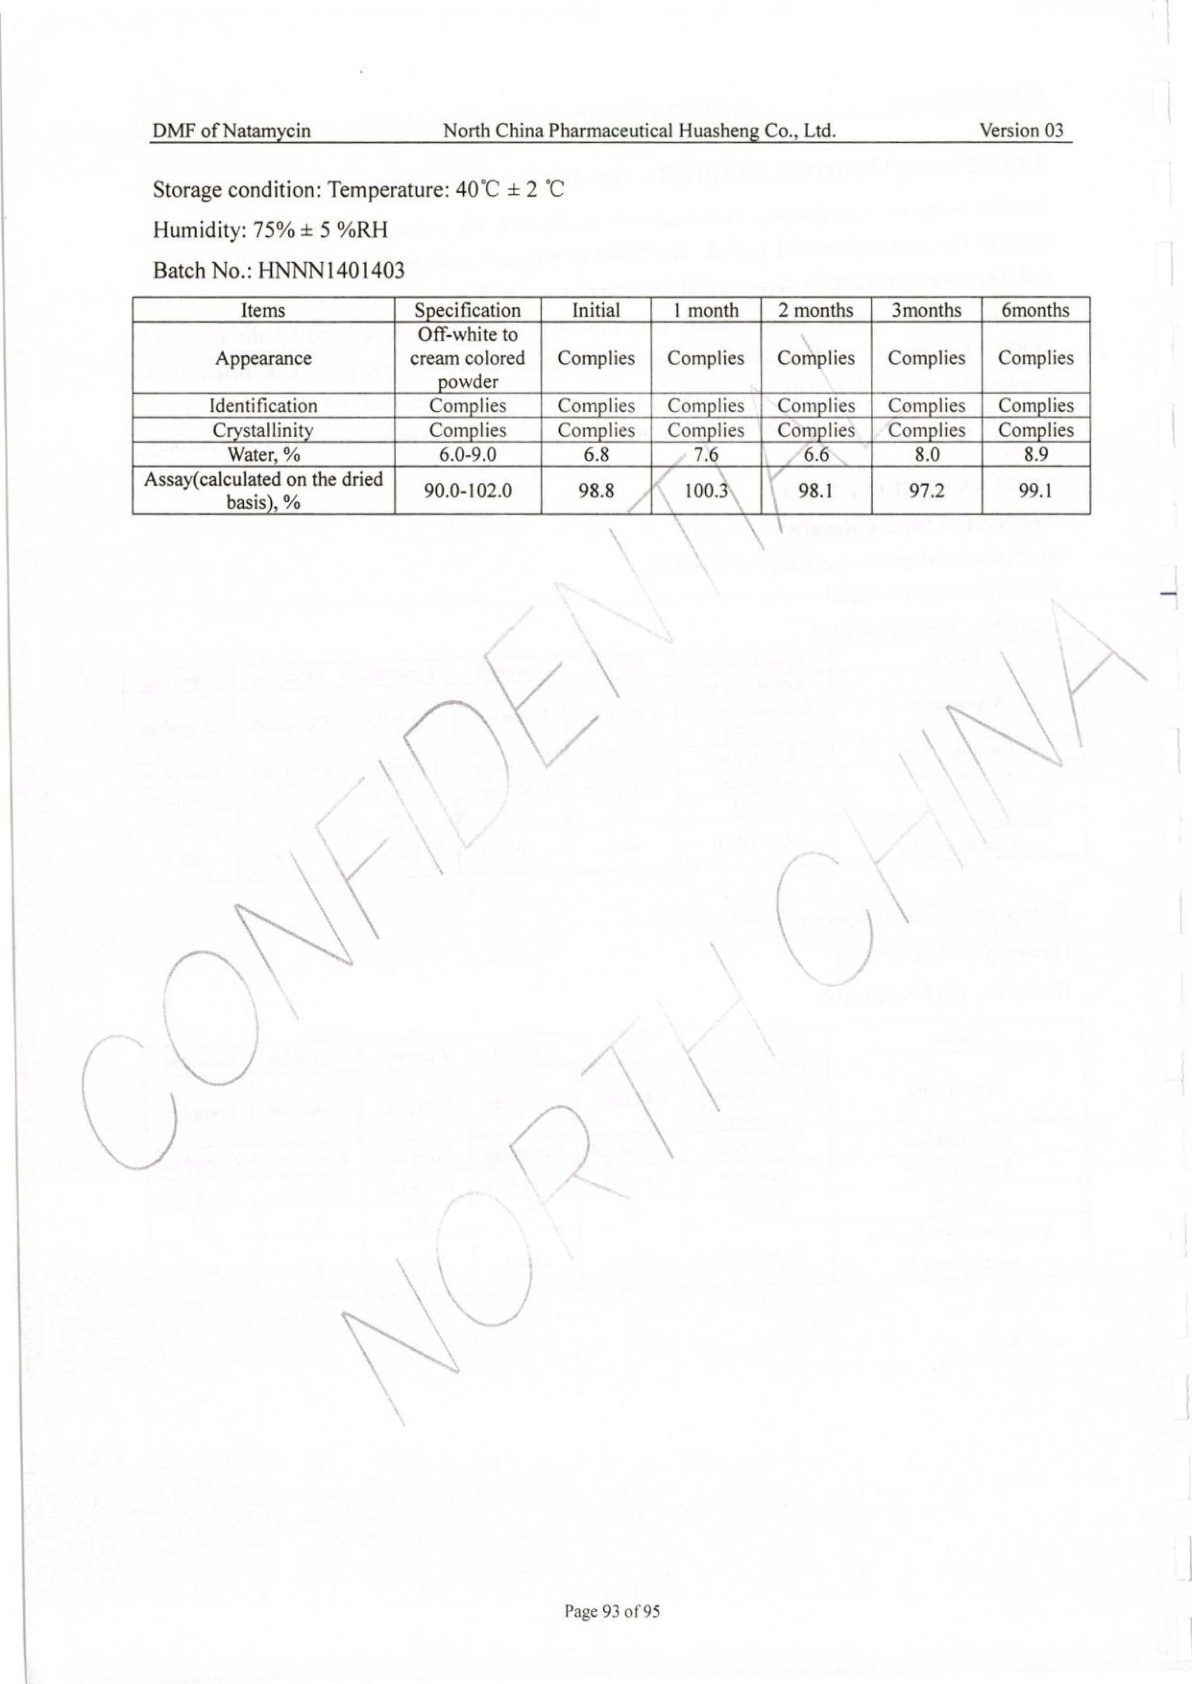full_lined: (130, 295, 1091, 516)
